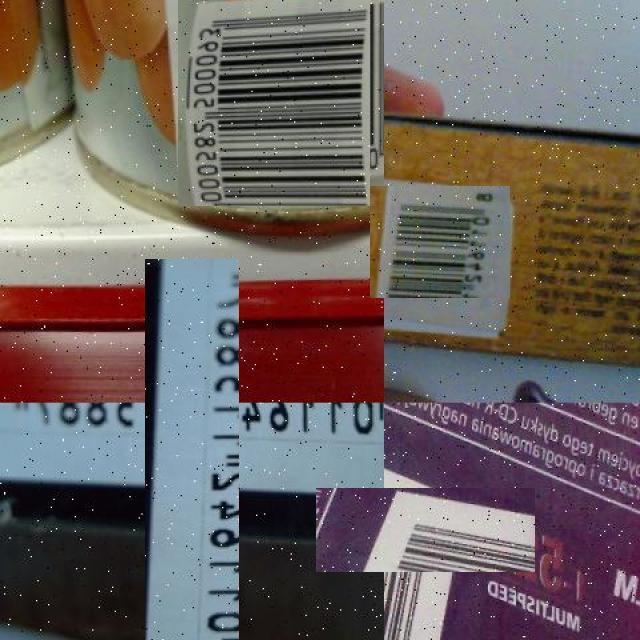Barcode: (72, 330, 312, 570), (171, 0, 377, 199), (350, 454, 502, 606), (377, 179, 503, 306)
